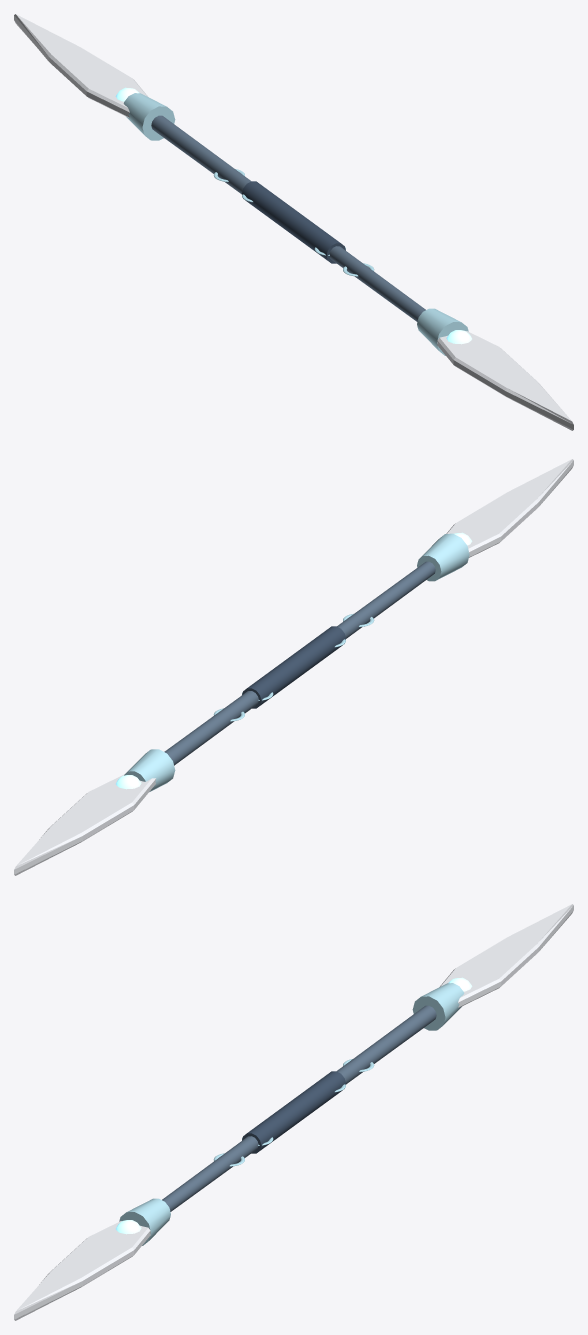
File: zarek_right.glb
3 renders of one model, top to bottom at view 1: azimuth 30°, elevation 25°; view 2: azimuth 150°, elevation 25°; view 3: azimuth 330°, elevation 25°, orthographic.
Parts seen in each view (by area): view 1: zarek_right; view 2: zarek_right; view 3: zarek_right.
Part boxes in pixels (x1,y1,x2,y2): zarek_right: (14, 14, 573, 430); zarek_right: (14, 459, 573, 875); zarek_right: (14, 904, 573, 1320).
Size of the model in its own units: 0.1062 by 0.0733 by 2.17.
